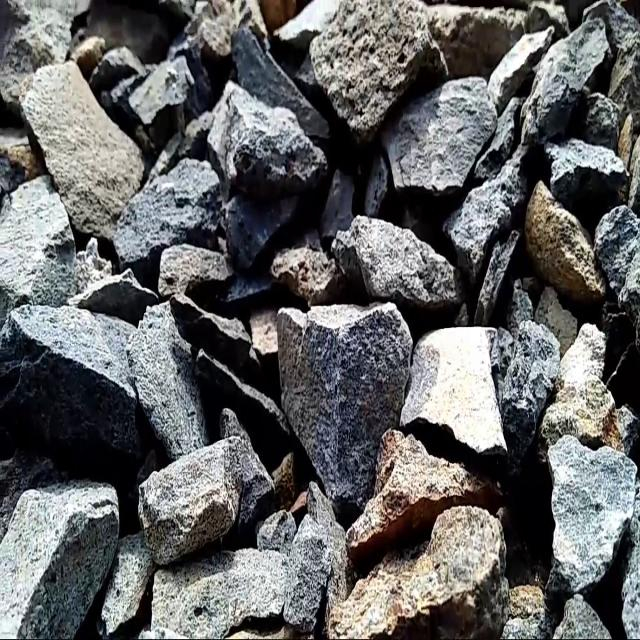Pecahan Agregat: (237, 285, 443, 467), (198, 53, 316, 248), (235, 233, 286, 244)
